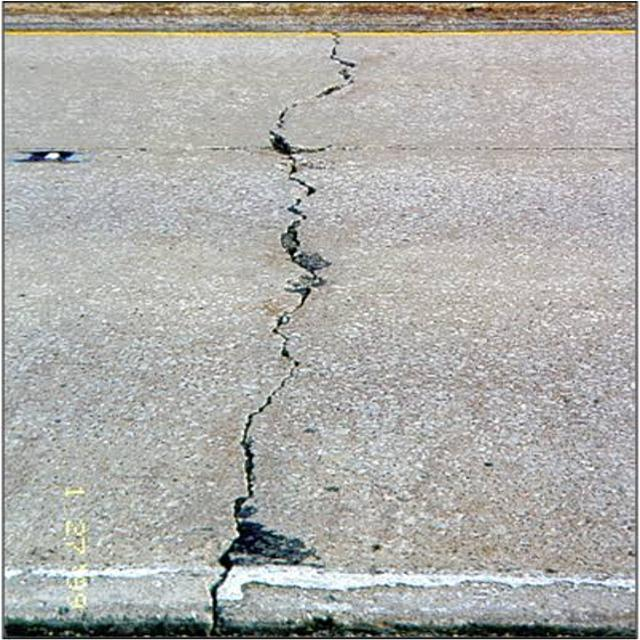Memanjang: (195, 25, 366, 628)
